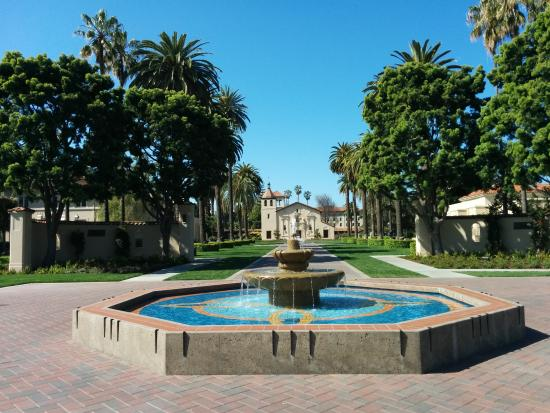tree: (1, 49, 126, 271), (357, 61, 486, 257), (121, 85, 235, 269)
